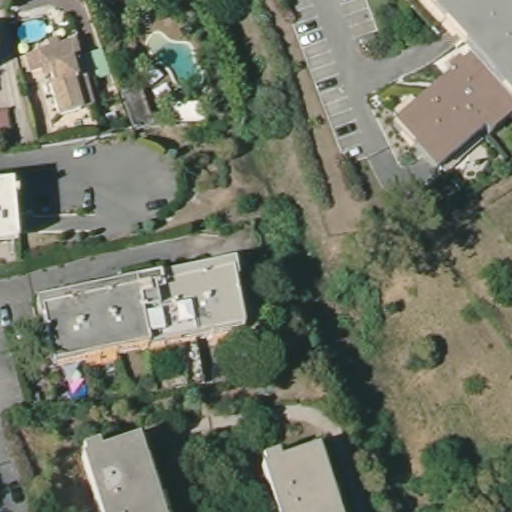pool: (145, 32, 207, 88), (16, 18, 51, 45), (70, 380, 89, 402)
